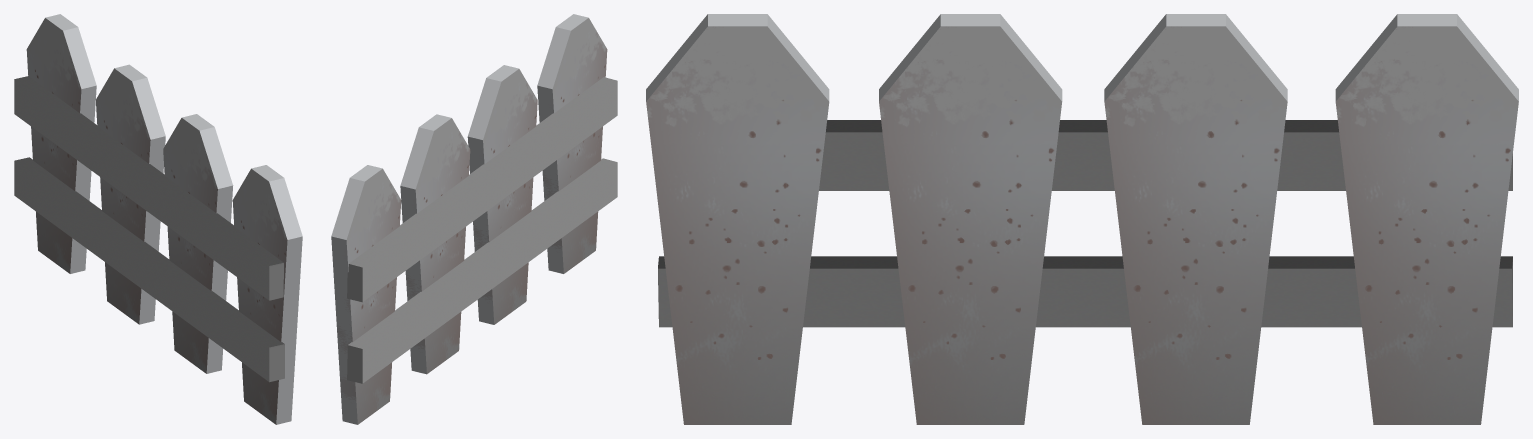
Rendered from Chicken_Fence 1.fbx.
3 views of the same model, side by side, from view 1: azimuth 30°, elevation 25°; view 2: azimuth 150°, elevation 25°; view 3: azimuth 270°, elevation 25° (orthographic). The views are drawn at different scales.
Parts seen in each view (by area): view 1: Cube.010; view 2: Cube.010; view 3: Cube.010.
Boxes of the visible parts, x1,y1,x2,y2 form: Cube.010: (14,14,302,424); Cube.010: (331,14,617,424); Cube.010: (646,14,1518,424).
Size of the model in its own units: 12.84 by 99.04 by 197.
